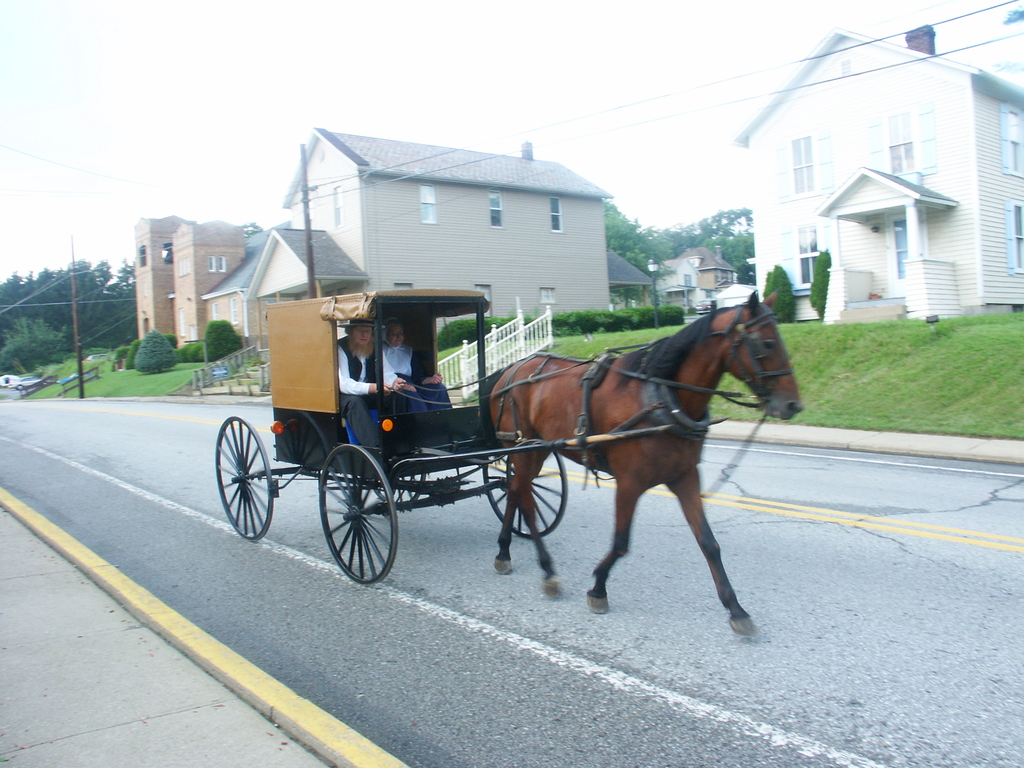horse: (488, 288, 805, 637)
